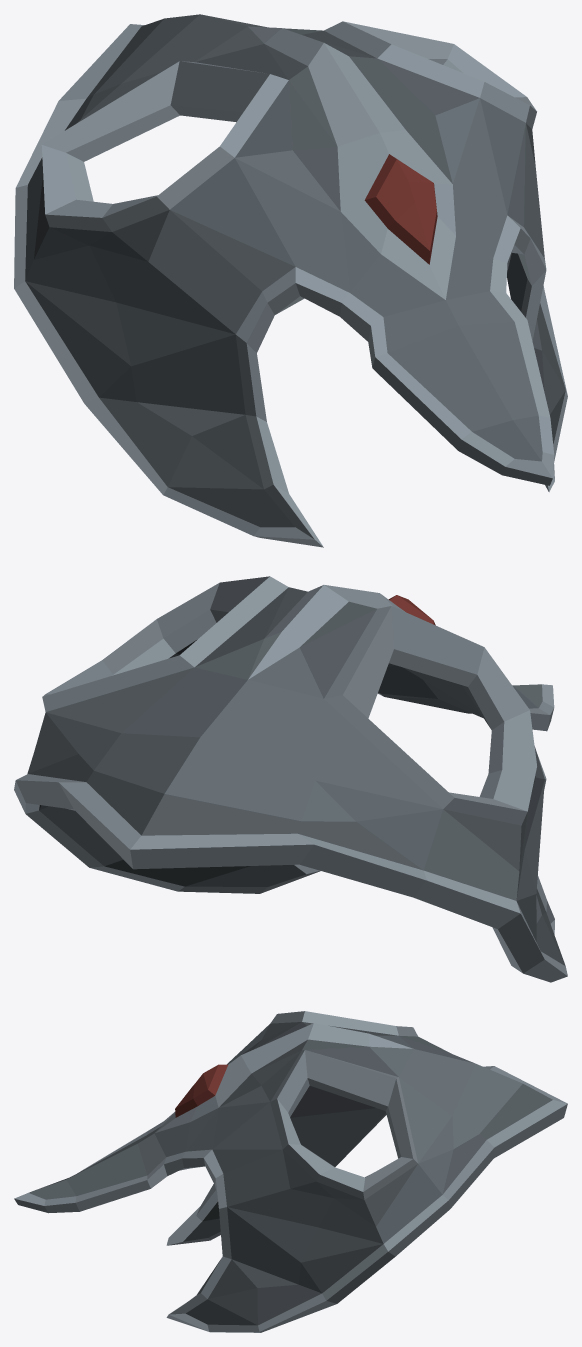
The model's file is SM_Chr_Attach_Helmet_Light_Large_01.fbx.
3 renders of one model, top to bottom at view 1: azimuth 30°, elevation 25°; view 2: azimuth 150°, elevation 25°; view 3: azimuth 270°, elevation 25°, orthographic. The views are drawn at different scales.
Parts seen in each view (by area): view 1: SM_Chr_Attach_Helmet_Light_Large_01; view 2: SM_Chr_Attach_Helmet_Light_Large_01; view 3: SM_Chr_Attach_Helmet_Light_Large_01.
Boxes of the visible parts, bbox=[...] form: SM_Chr_Attach_Helmet_Light_Large_01: bbox=[14, 14, 567, 547]; SM_Chr_Attach_Helmet_Light_Large_01: bbox=[14, 576, 567, 982]; SM_Chr_Attach_Helmet_Light_Large_01: bbox=[14, 1011, 567, 1332].
Size of the model in its own units: 31.38 by 23.8 by 45.36.
